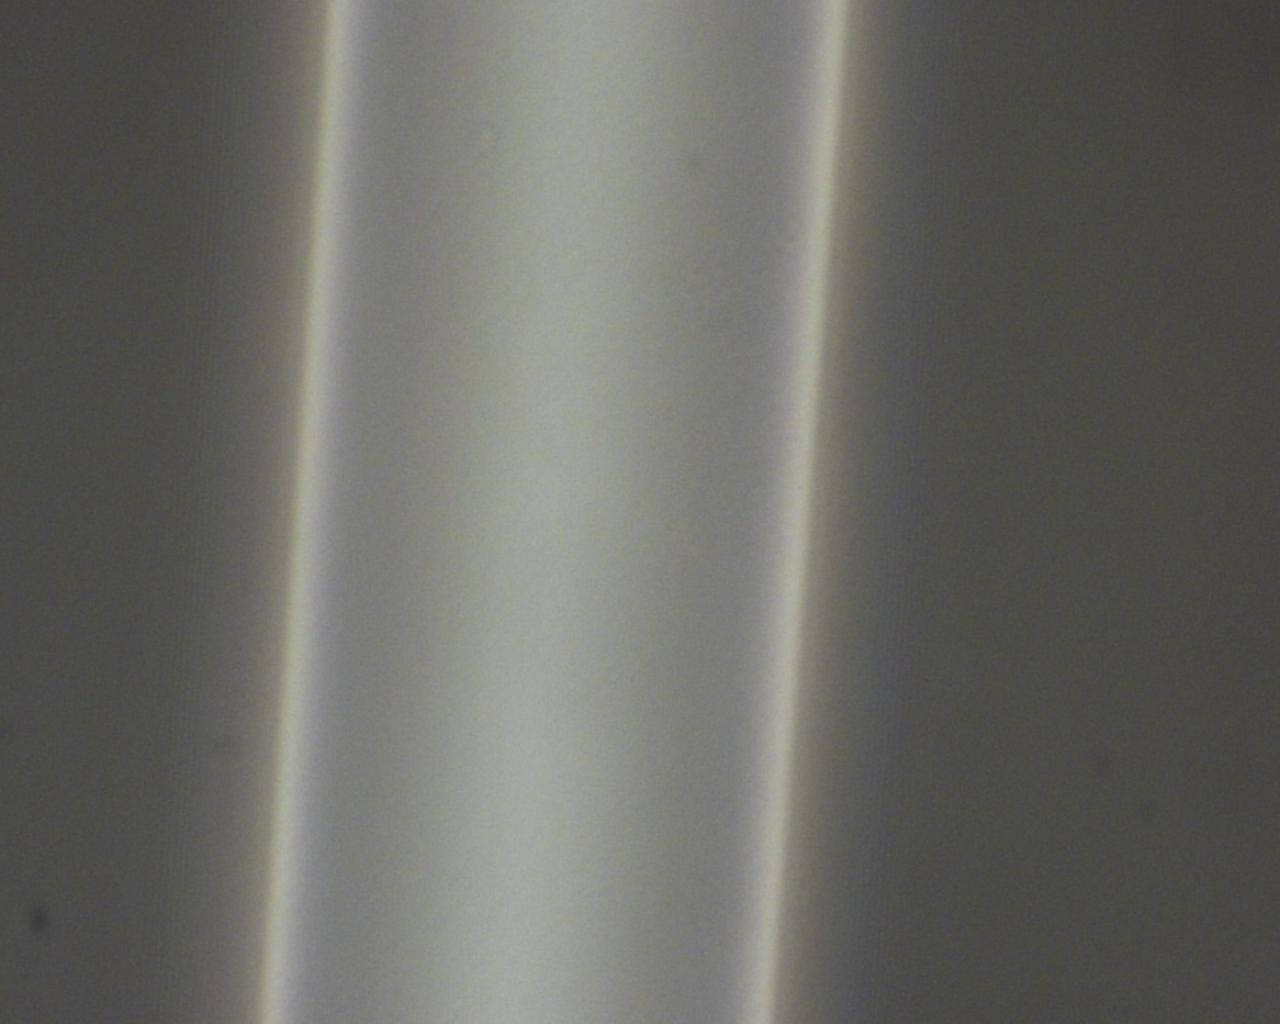fiber: (639, 319, 1280, 573), (121, 793, 639, 1024)
